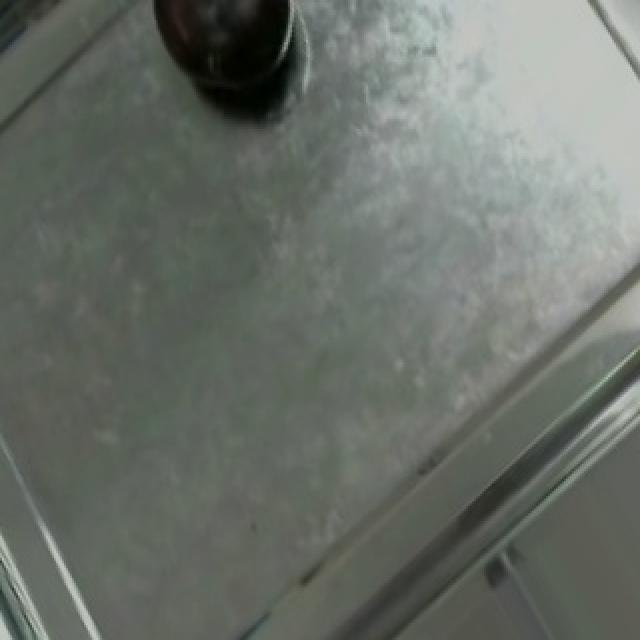Fruit: (132, 0, 314, 124)
